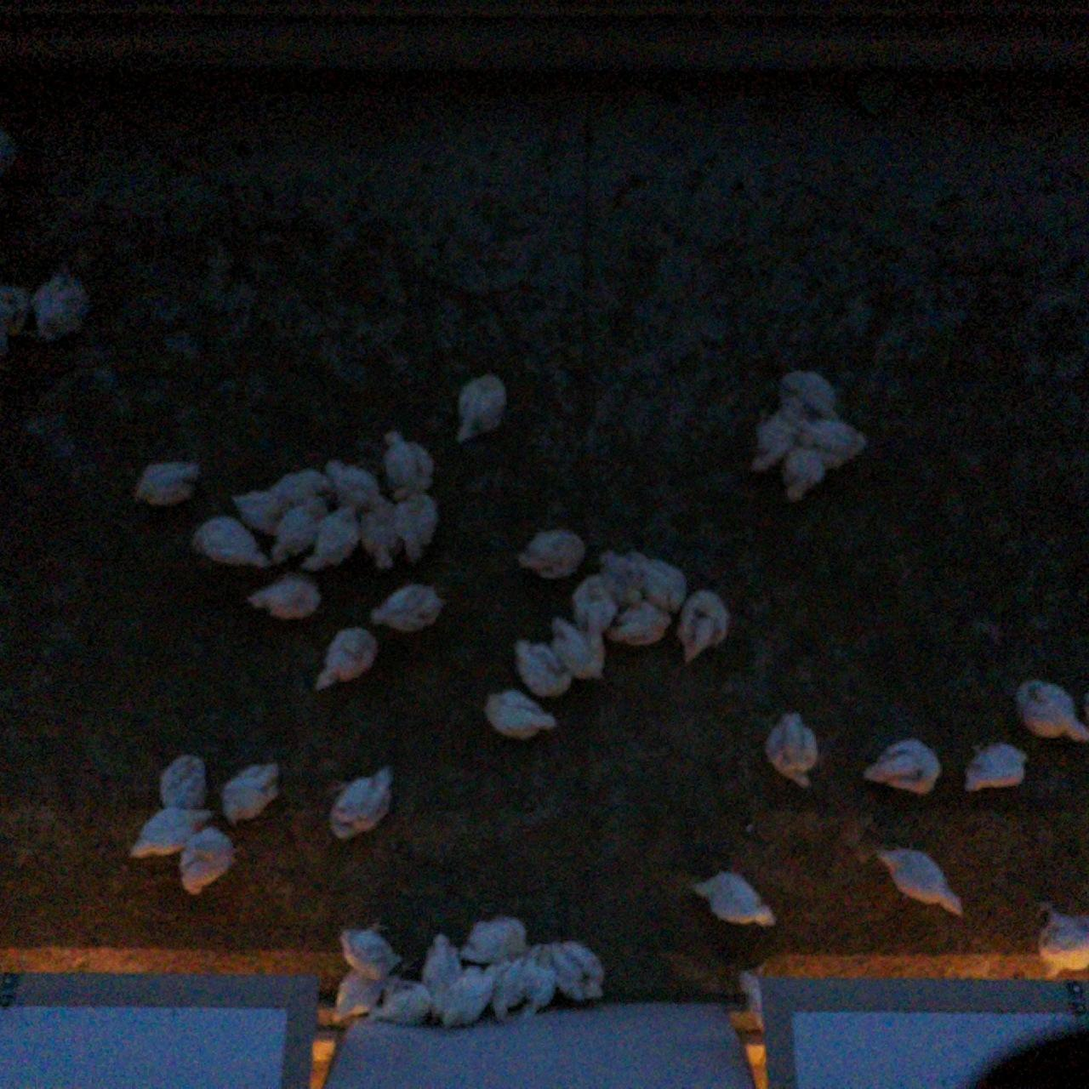chicken: (872, 840, 971, 924), (683, 864, 788, 937), (324, 759, 401, 848), (854, 730, 948, 801), (1006, 669, 1089, 746), (758, 703, 827, 794), (176, 821, 251, 903), (27, 262, 95, 350), (436, 955, 509, 1035), (125, 801, 216, 864), (1024, 896, 1089, 984), (186, 512, 276, 575), (309, 621, 382, 698), (669, 583, 733, 667), (216, 757, 288, 829), (958, 731, 1031, 802), (332, 916, 406, 985), (511, 522, 590, 585), (450, 370, 512, 448), (773, 365, 842, 435), (375, 426, 440, 500), (794, 413, 871, 475), (508, 634, 575, 703), (127, 454, 210, 509), (456, 911, 531, 971), (265, 497, 330, 566), (546, 610, 605, 685), (478, 688, 559, 742), (546, 936, 610, 1003), (392, 482, 443, 565), (305, 500, 362, 573), (327, 964, 387, 1031), (602, 596, 677, 649), (365, 973, 436, 1028), (153, 748, 211, 815), (746, 405, 797, 481), (320, 452, 386, 510), (485, 949, 532, 1028), (518, 938, 560, 1021), (355, 494, 399, 573), (418, 929, 466, 997), (782, 441, 828, 508), (227, 485, 283, 537), (267, 465, 334, 508), (0, 281, 35, 356)
